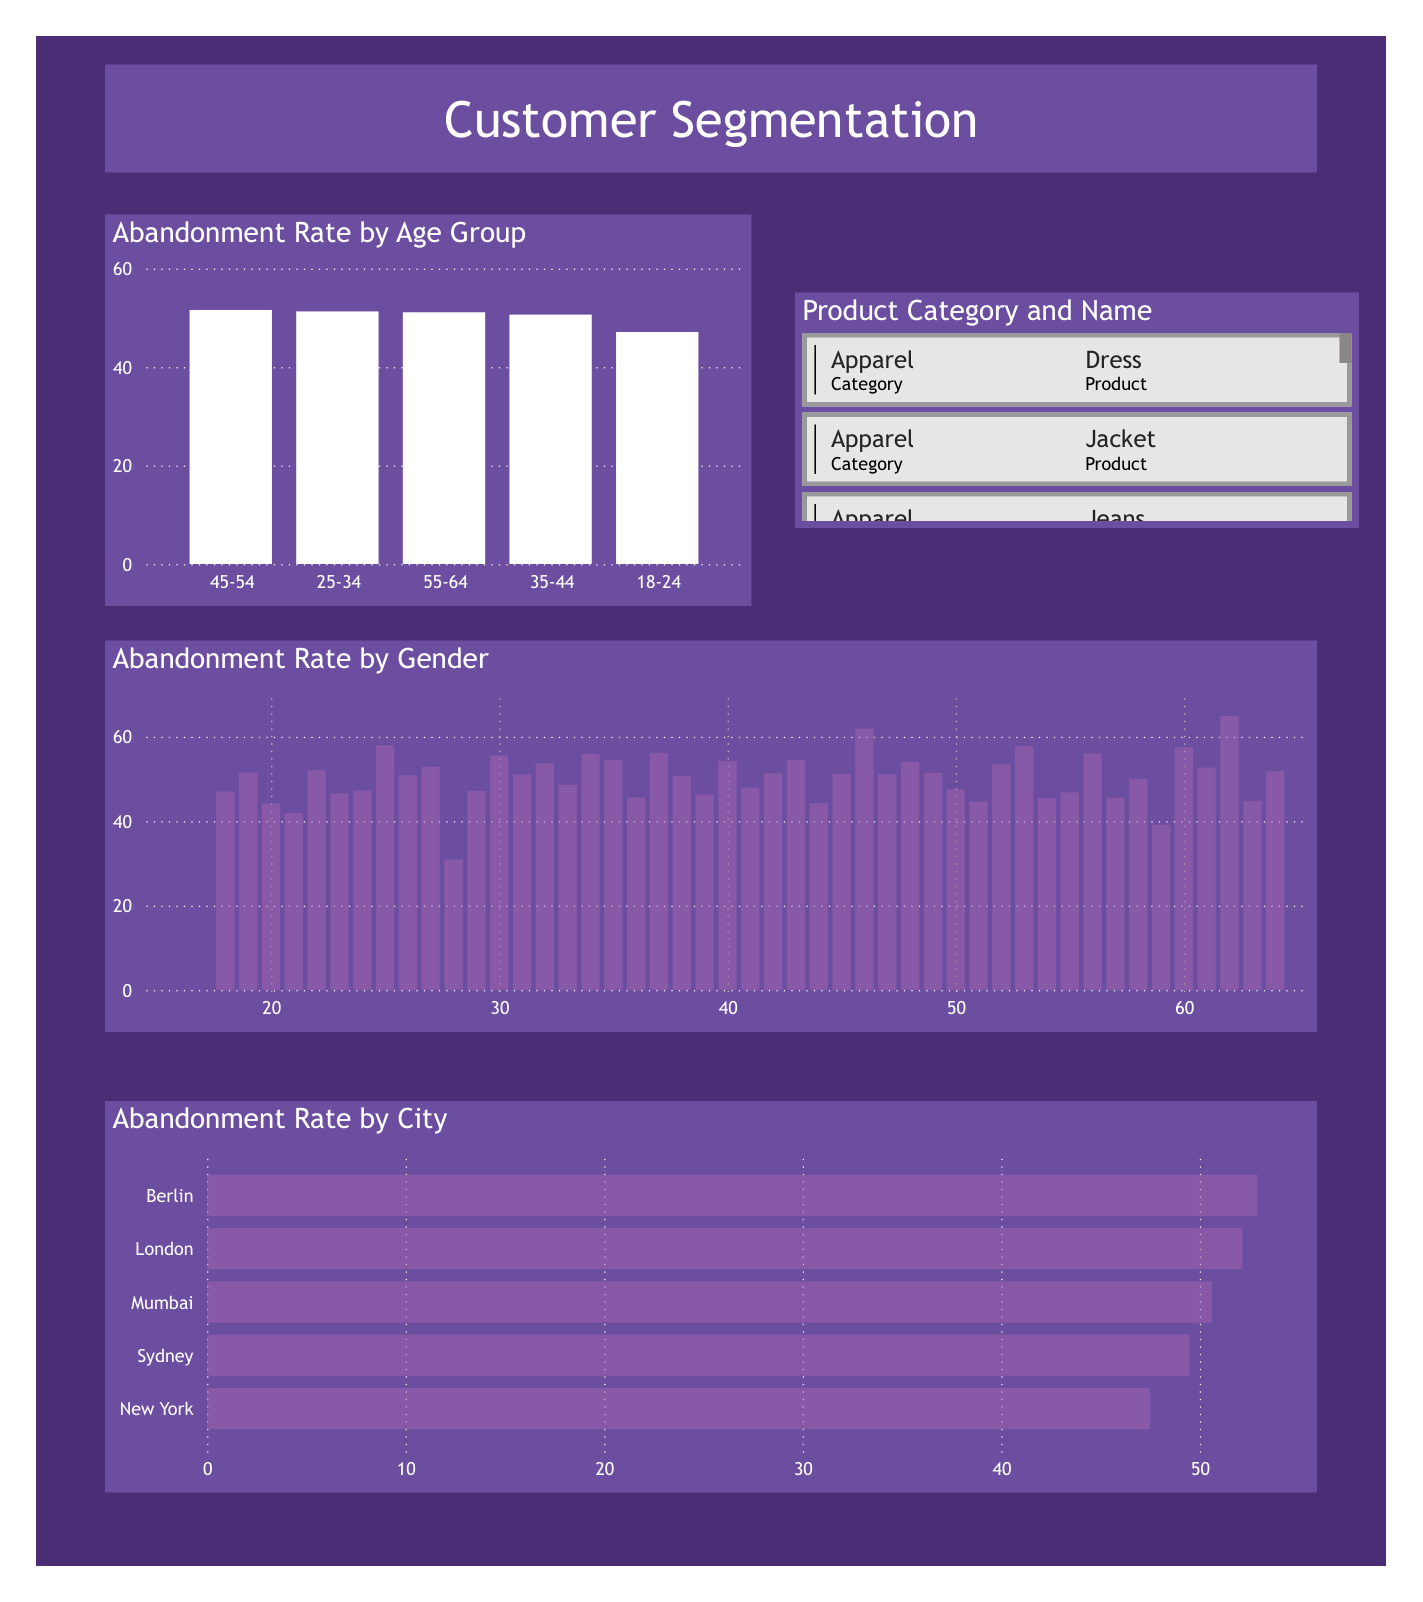

The page's visual inventory and layout, read from the dashboard file:
{"tool":"powerbi","page":{"name":"Duplicate of Prod & Device Breakdown","canvas":[900,1020],"ordinal":2},"visuals":[{"type":"shape","box":[45.6,18.9,808.9,72.2],"z":0},{"type":"columnChart","title":"Abandonment Rate by Age Group","fields":{"Y":["customer_table.Abandonment Rate %"],"Category":["customer_table.age"]},"box":[45.6,118.9,431.1,261.1],"z":1000},{"type":"barChart","title":"Abandonment Rate by Gender","fields":{"Y":["customer_table.Abandonment Rate %"],"Category":["product_table.category","product_table.product_name"]},"box":[45.6,403.3,808.9,261.1],"z":2000},{"type":"multiRowCard","title":"Product Category and Name","fields":{"Values":["product_table.category","product_table.product_name"]},"box":[505.6,171.1,376.7,156.7],"z":3000},{"type":"barChart","title":"Abandonment Rate by City","fields":{"Y":["customer_table.Abandonment Rate %"],"Category":["product_table.category","product_table.product_name"]},"box":[45.6,710,808.9,261.1],"z":3001}]}

Visuals, with their boxes in screenshot pixels (x1, y1, x2, y2), scaled from the page's 900x1020 canvas onto the 1423x1602 screenshot:
shape: Rect(72, 30, 1351, 143)
"Abandonment Rate by Age Group" columnChart: Rect(72, 187, 754, 597)
"Abandonment Rate by Gender" barChart: Rect(72, 633, 1351, 1043)
"Product Category and Name" multiRowCard: Rect(799, 269, 1395, 515)
"Abandonment Rate by City" barChart: Rect(72, 1115, 1351, 1525)
